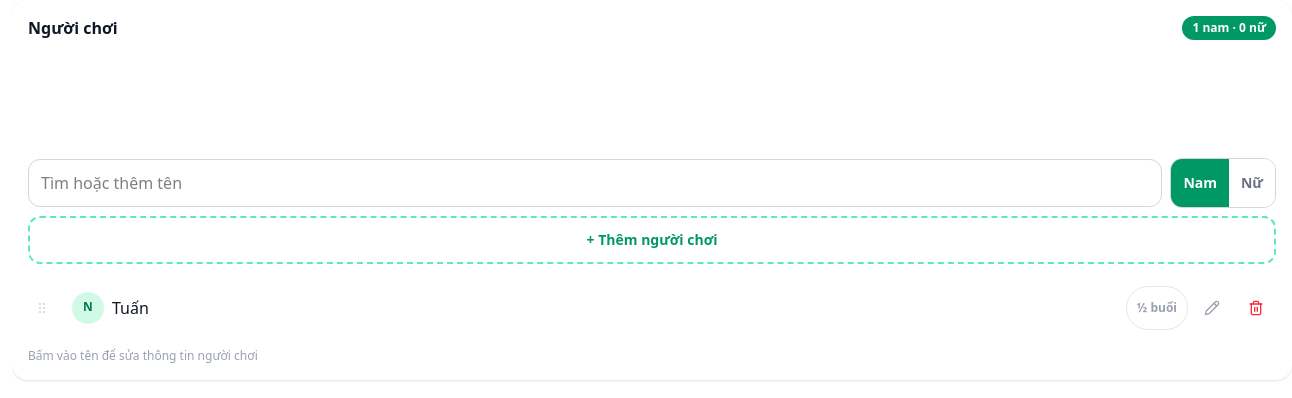
Test: swipe-left on a row reveals the red Xóa button; tapping it removes the player
Press the mouse on the element with test id "swipe-row-1" at point(652, 308), box top-left (28, 276), bottom-right (1276, 340)
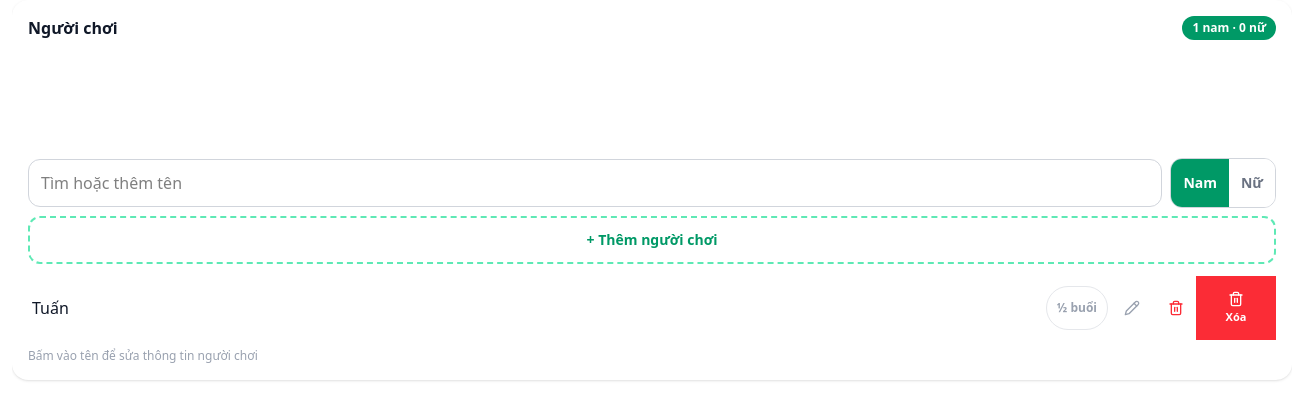
Click the button with aria-label "Xóa nhanh Tuấn" at point(1236, 308), box top-left (1196, 276), bottom-right (1276, 340)
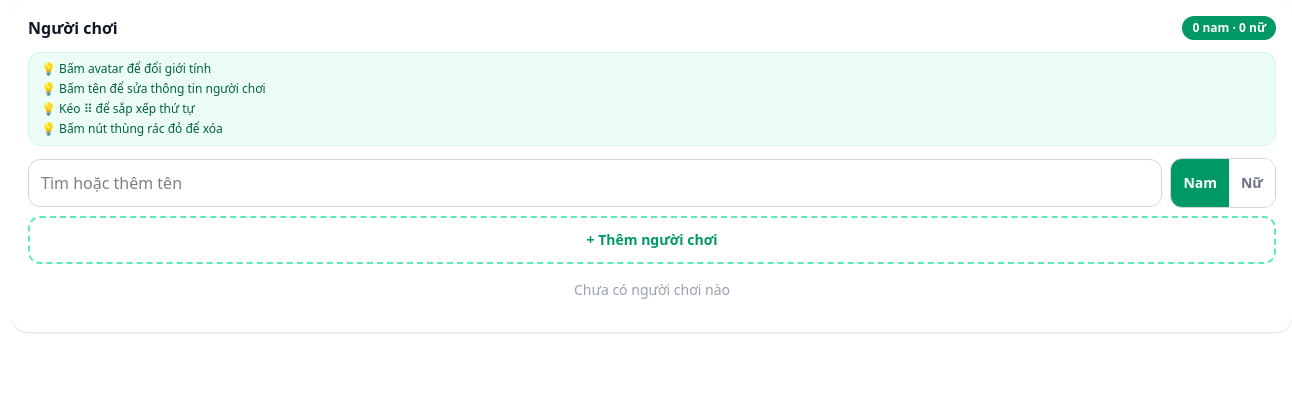
Result: the button "Tuấn" is gone
